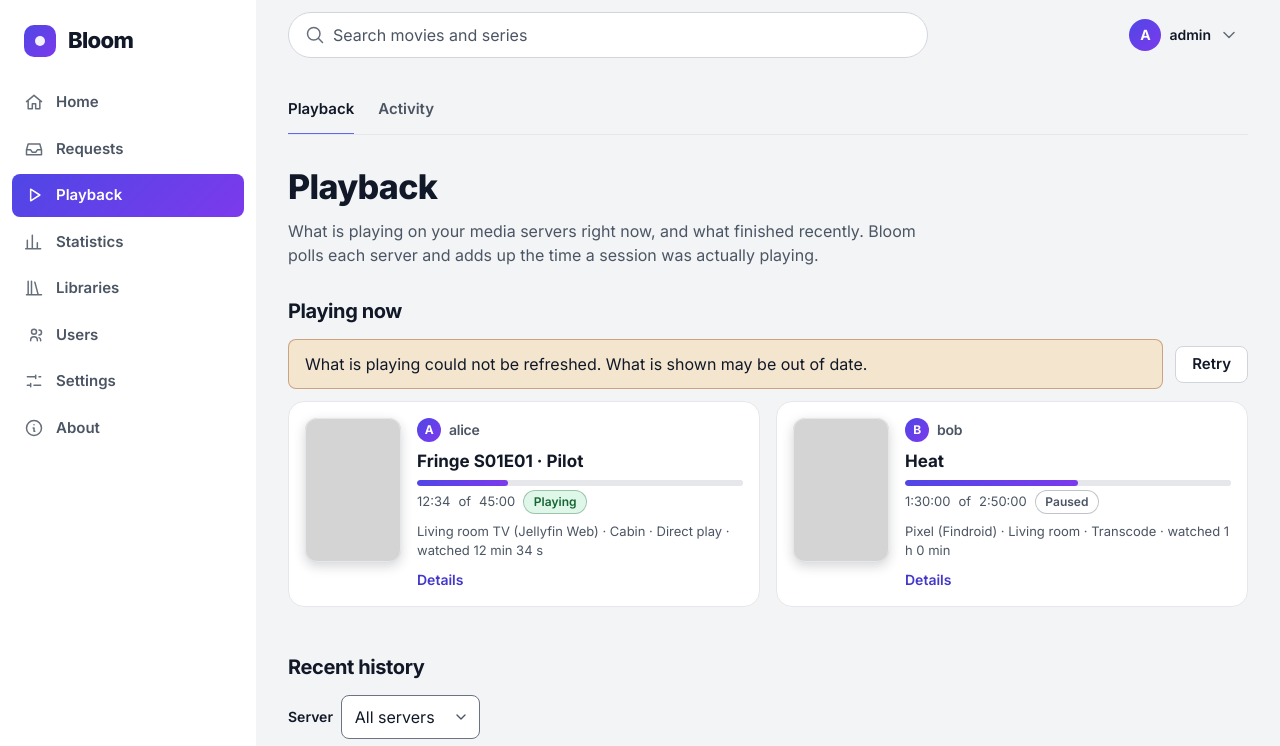
keeps the last rows and says so when a refresh fails, then recovers
Check: the message reads "What is playing could not be refreshed. What is shown may be out of date.", box [305, 354, 867, 374]
Check: the element "alice" is shown, box [288, 401, 760, 607]
Click the button "Retry": {"x": 1212, "y": 364} [1175, 346, 1248, 383]
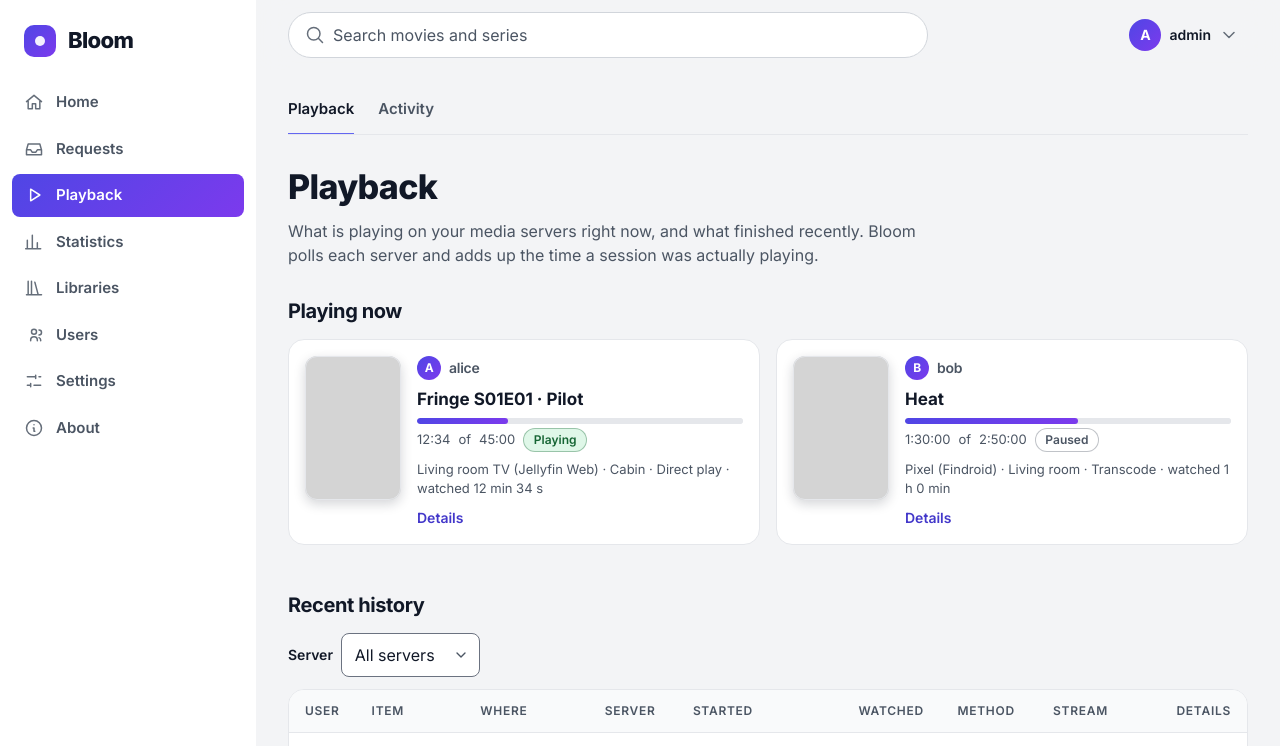
Check: the element "alice" is shown, box [288, 339, 760, 545]
Check: the message "What is playing could not be refreshed. What is shown may be out of date." is gone
